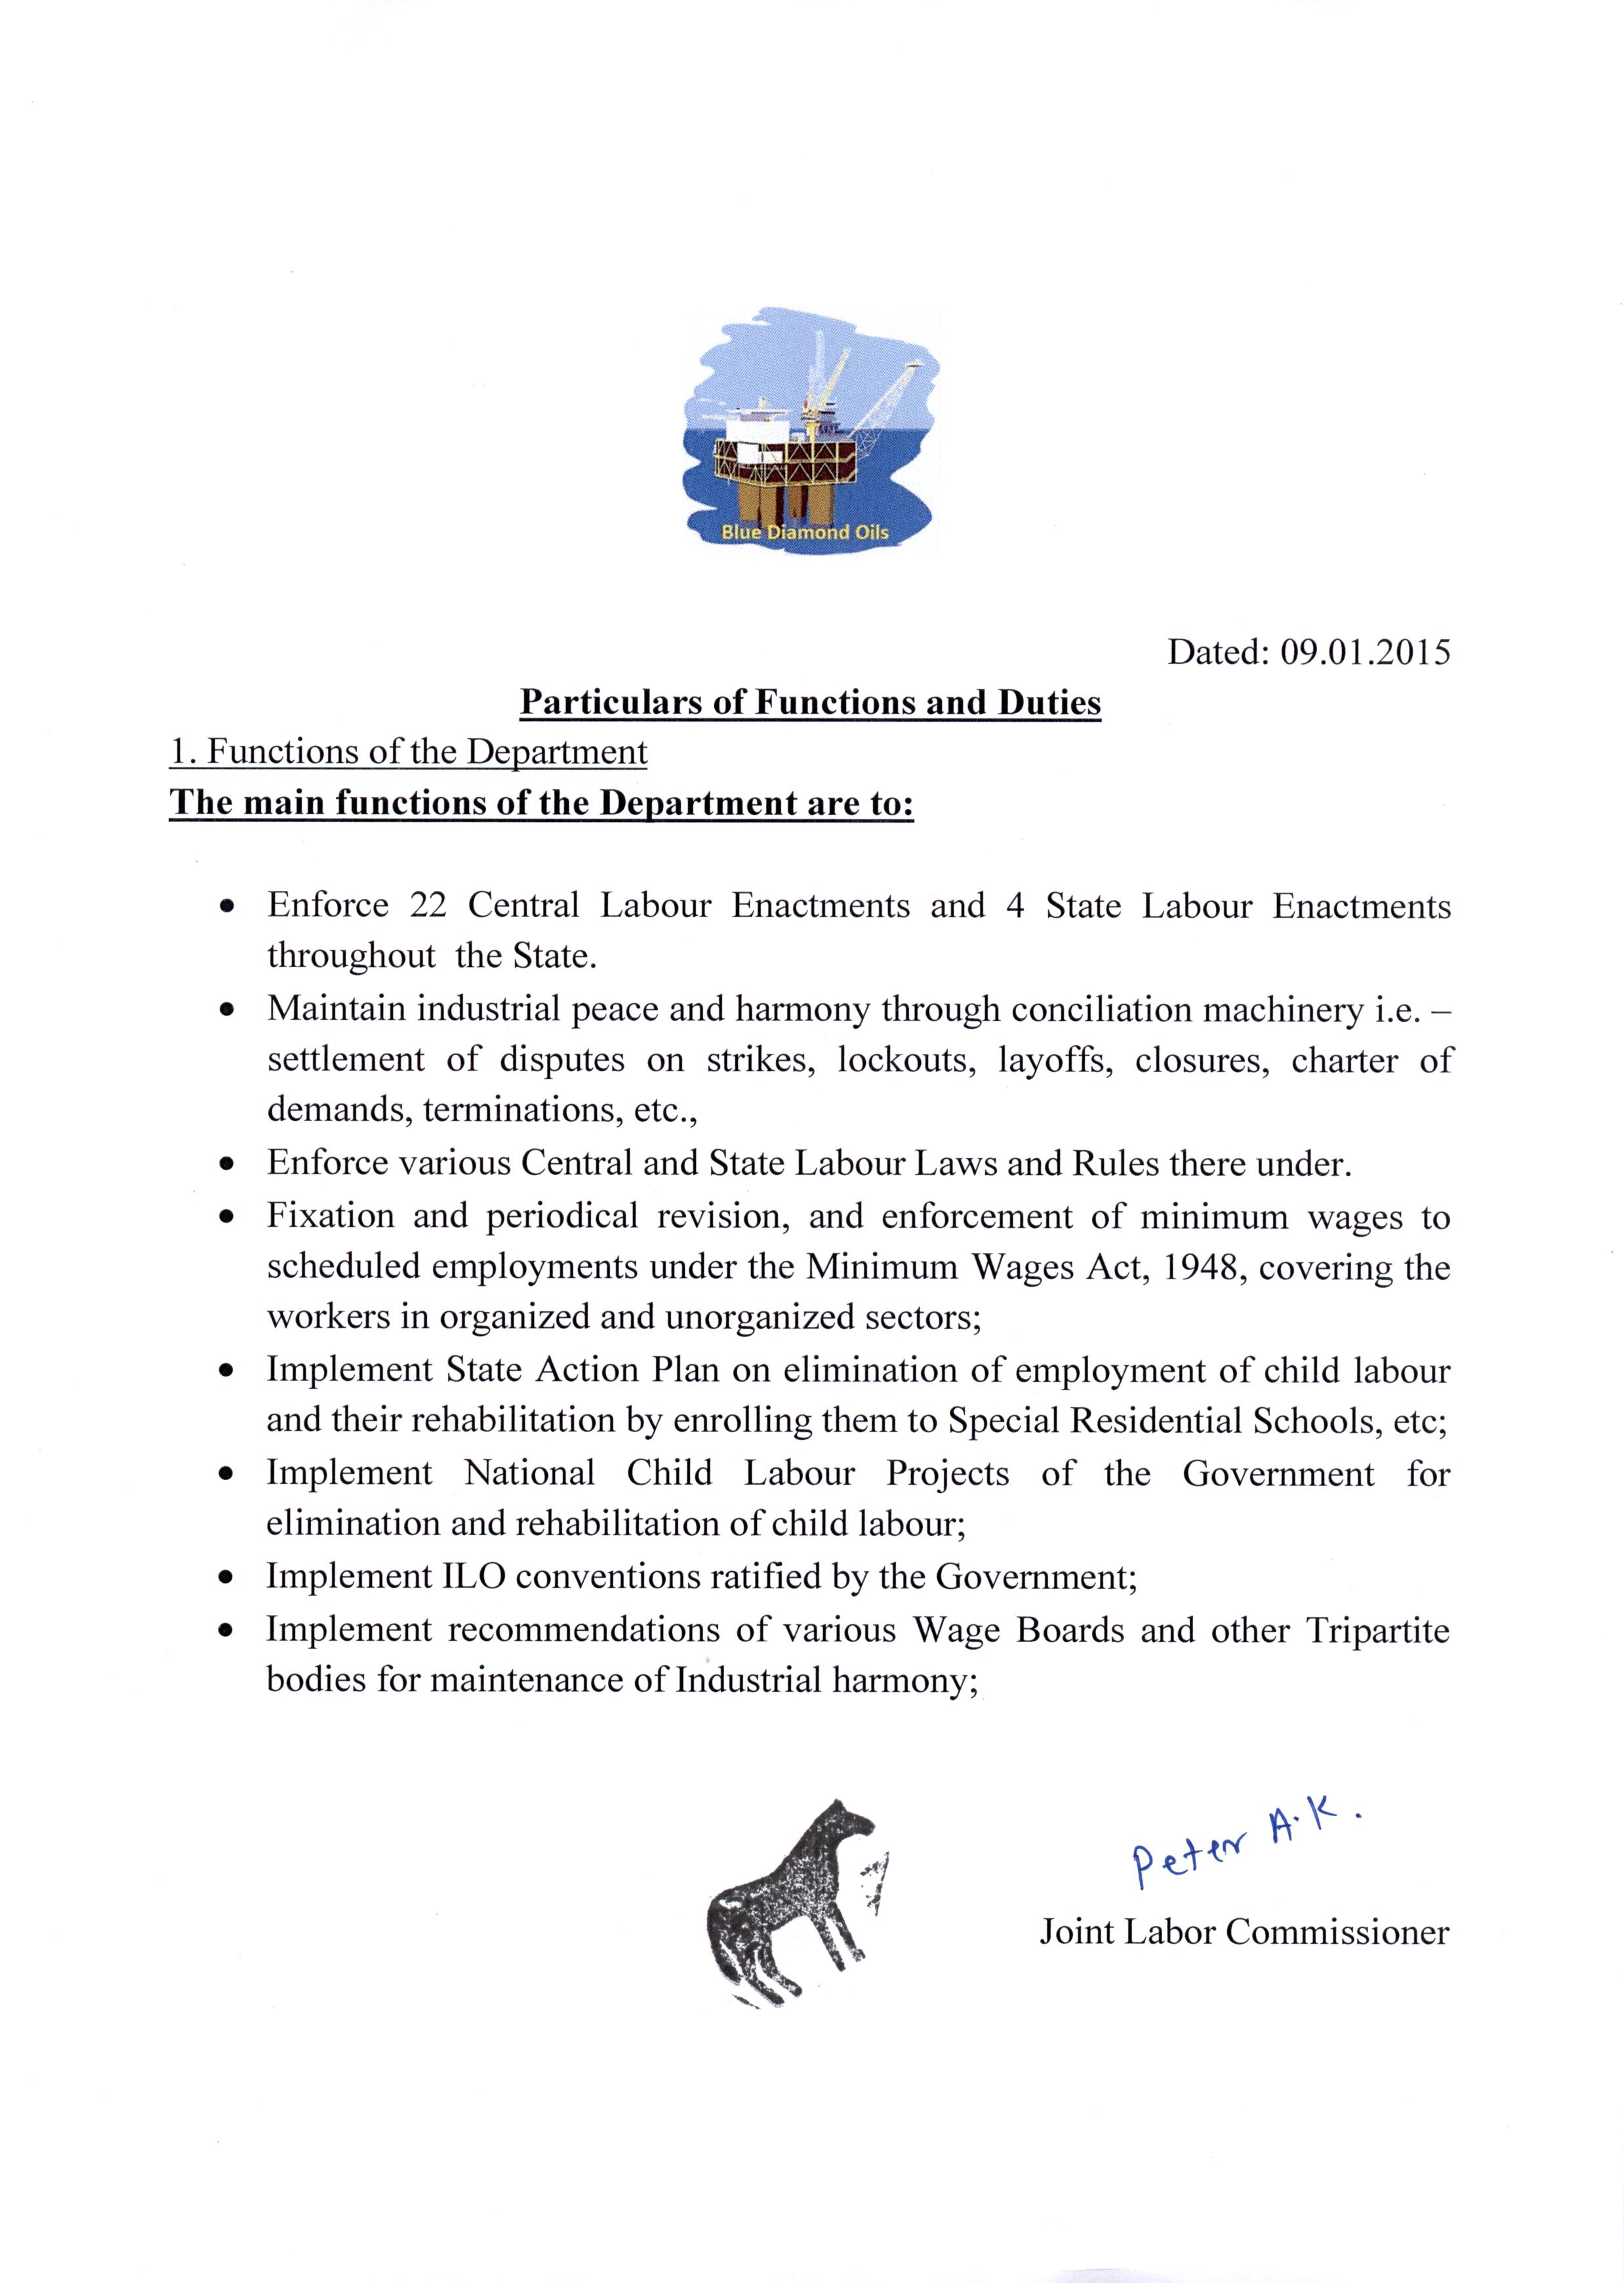Signature: (1121, 1782, 1369, 1898)
